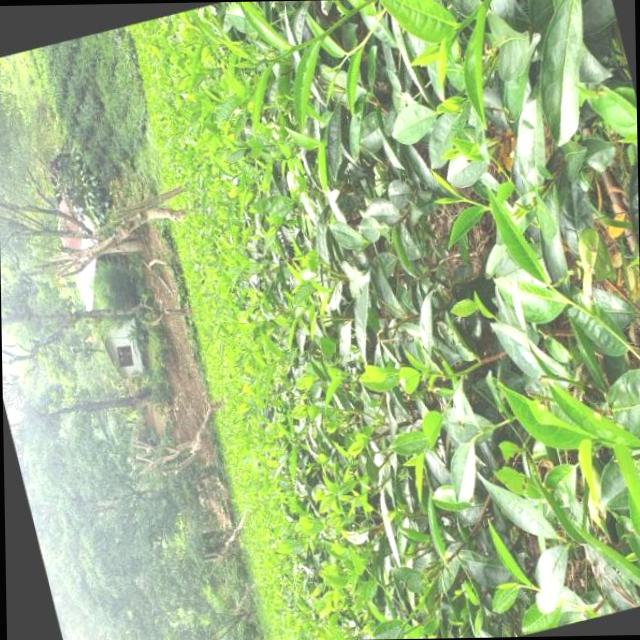Stem: (482, 0, 488, 7), (459, 371, 465, 376), (272, 58, 277, 62), (462, 198, 466, 201)
